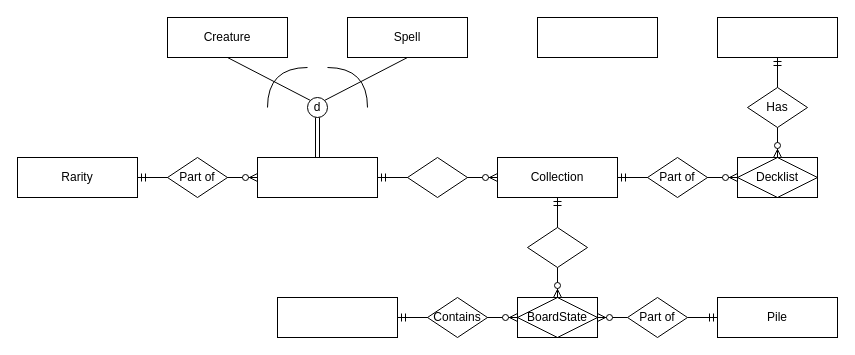
Image size: 855x355. Some labels were removed from this diagram. The shapes that lost their labels are listed below. From the top down, each one's centre as x and y in pixels, then its label:
[597,37]: Speed
[777,37]: Deck
[317,177]: Card
[437,177]: Is a
[557,247]: Has a
[337,317]: Match
